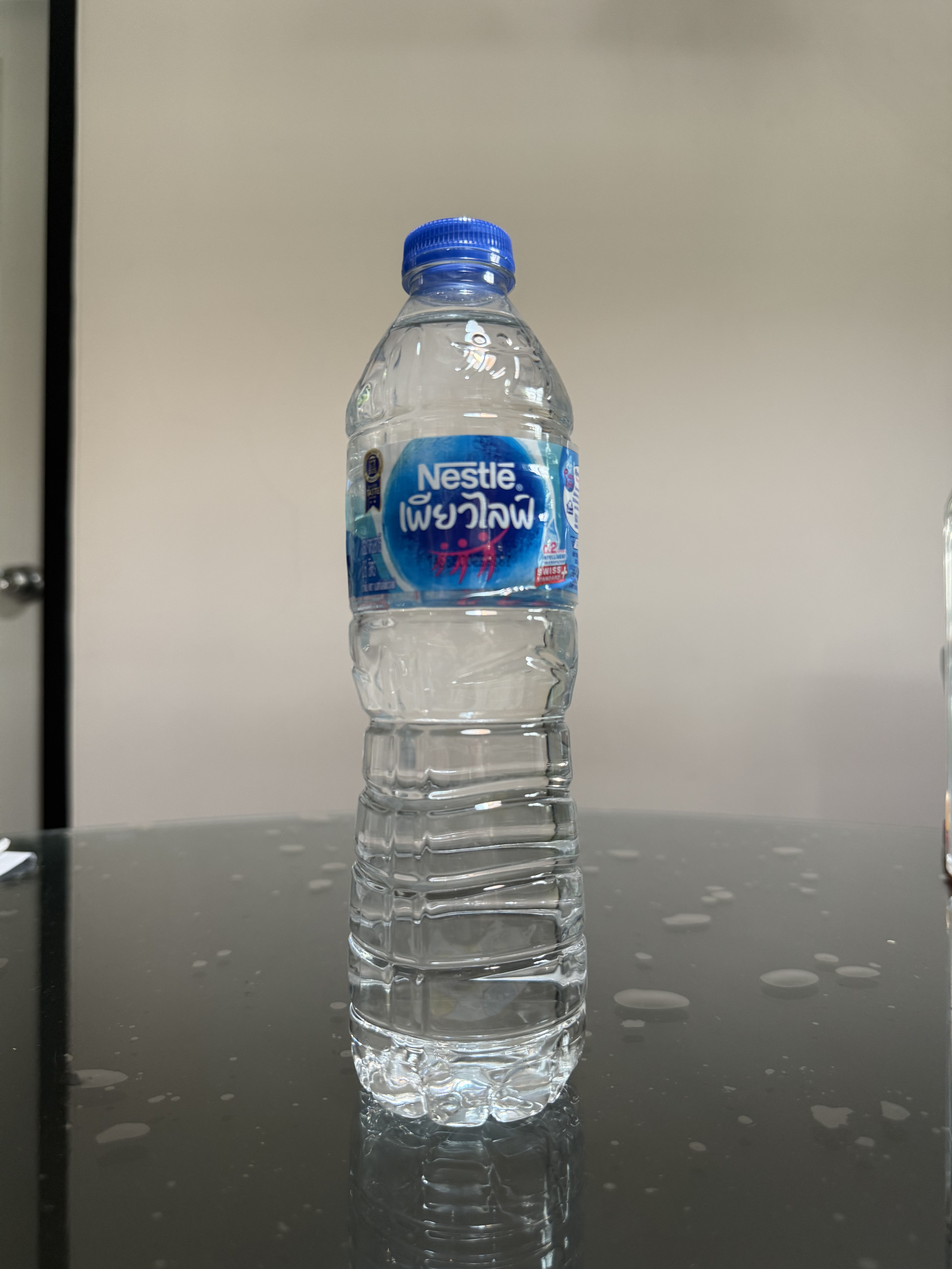closed_cap: (399, 214, 517, 294)
